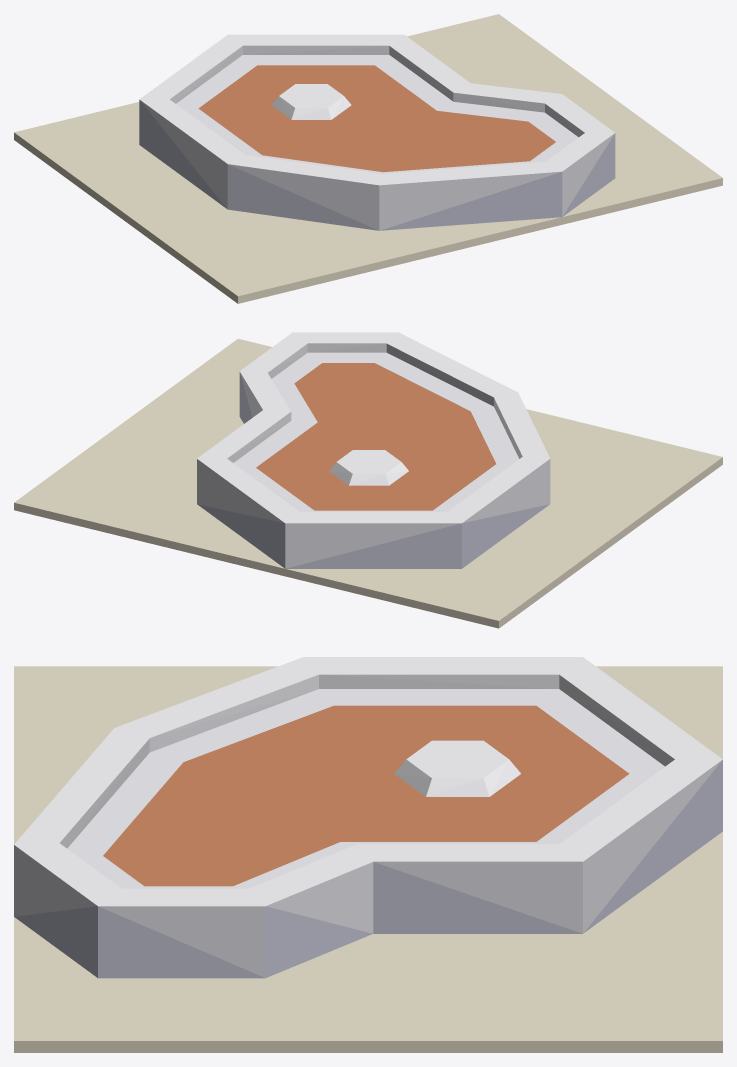
File: g-steak.glb
3 renders of one model, top to bottom at view 1: azimuth 30°, elevation 25°; view 2: azimuth 150°, elevation 25°; view 3: azimuth 270°, elevation 25°, orthographic. The views are drawn at different scales.
Parts seen in each view (by area): view 1: g_steak; view 2: g_steak; view 3: g_steak.
Boxes of the visible parts, x1,y1,x2,y2 form: g_steak: (14, 14, 722, 303); g_steak: (14, 332, 722, 628); g_steak: (14, 657, 722, 1052).
Size of the model in its own units: 0.2 by 0.0209 by 0.16.
